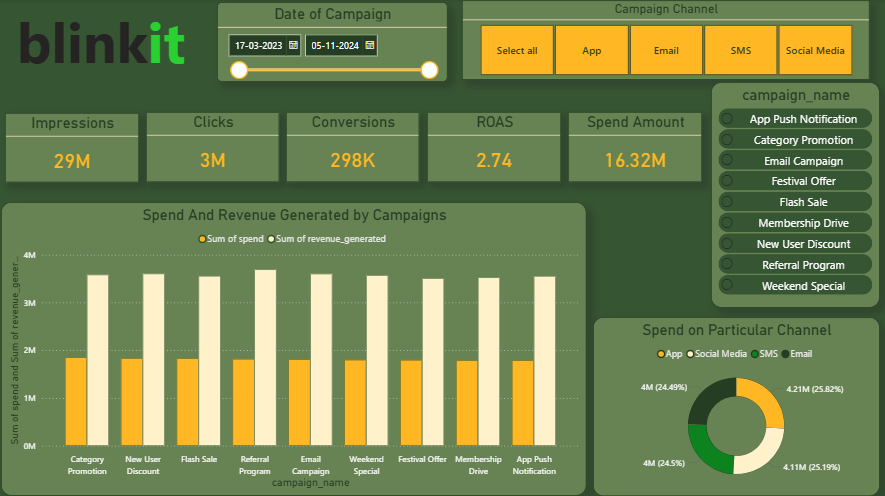

This screenshot's page, from the dashboard's own definition file:
{"tool":"powerbi","page":{"name":"Marketing","canvas":[1280,720],"ordinal":0},"visuals":[{"type":"slicer","title":"Campaign Channel","fields":{"Values":["blinkit_marketing_performance.channel"]},"box":[668.3,1.7,586.7,115],"z":0},{"type":"slicer","title":"Date of Campaign","fields":{"Values":["blinkit_marketing_performance.date"]},"box":[315,5,331.7,115],"z":1000},{"type":"clusteredColumnChart","title":"Spend And Revenue Generated by Campaigns","fields":{"Category":["blinkit_marketing_performance.campaign_name"],"Y":["Sum(blinkit_marketing_performance.spend)","Sum(blinkit_marketing_performance.revenue_generated)"]},"box":[5,291.7,843.3,423.3],"z":2000},{"type":"card","title":"Impressions","fields":{"Values":["Sum(blinkit_marketing_performance.impressions)"]},"box":[10.4,163.6,193,100],"z":3000},{"type":"card","title":"Clicks","fields":{"Values":["Sum(blinkit_marketing_performance.clicks)"]},"box":[212.4,163.2,192.3,100.6],"z":4000},{"type":"card","title":"Conversions","fields":{"Values":["Sum(blinkit_marketing_performance.conversions)"]},"box":[414.7,163.2,192.3,100.6],"z":5000},{"type":"card","title":"ROAS","fields":{"Values":["Avg(blinkit_marketing_performance.roas)"]},"box":[618.2,163.2,193.4,100.6],"z":6000},{"type":"card","title":"Spend Amount","fields":{"Values":["Sum(blinkit_marketing_performance.spend)"]},"box":[820.5,163.2,193.4,100.6],"z":7000},{"type":"donutChart","title":"Spend on Particular Channel","fields":{"Y":["Sum(blinkit_marketing_performance.spend)"],"Category":["blinkit_marketing_performance.channel"]},"box":[857.4,457.2,412.5,258.2],"z":8000},{"type":"listSlicer","fields":{"Values":["blinkit_marketing_performance.campaign_name"]},"box":[1026.7,120,243.3,325],"z":11000},{"type":"textbox","box":[0,1.7,315,183.3],"z":12000}]}

Visuals, with their boxes in screenshot pixels (x1, y1, x2, y2), scaled from the page's 1280x720 canvas onto the 885x496 screenshot:
"Campaign Channel" slicer: <bbox>462, 1, 868, 80</bbox>
"Date of Campaign" slicer: <bbox>218, 3, 447, 83</bbox>
"Spend And Revenue Generated by Campaigns" clusteredColumnChart: <bbox>3, 201, 587, 493</bbox>
"Impressions" card: <bbox>7, 113, 141, 182</bbox>
"Clicks" card: <bbox>147, 112, 280, 182</bbox>
"Conversions" card: <bbox>287, 112, 420, 182</bbox>
"ROAS" card: <bbox>427, 112, 561, 182</bbox>
"Spend Amount" card: <bbox>567, 112, 701, 182</bbox>
"Spend on Particular Channel" donutChart: <bbox>593, 315, 878, 493</bbox>
listSlicer - blinkit_marketing_performance.campaign_name: <bbox>710, 83, 878, 307</bbox>
textbox: <bbox>0, 1, 218, 127</bbox>
